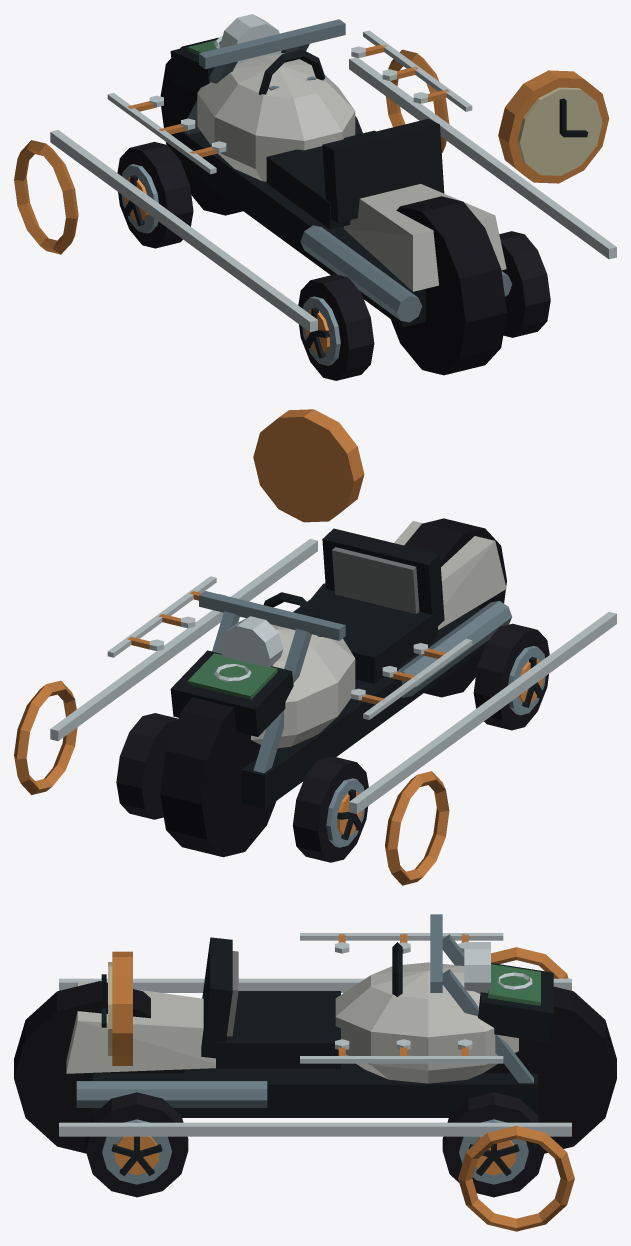
Rendered from kart.glb.
The picture shows the model from 3 angles, top to bottom: view 1: azimuth 30°, elevation 25°; view 2: azimuth 150°, elevation 25°; view 3: azimuth 270°, elevation 25°; orthographic projection.
Parts seen in each view (by area): view 1: identity-motorbike-motorbike-tank-and-fork, identity-motorbike-motif-neon, identity-motorbike-driver-cockpit, identity-motorbike-motif-clock, wheel-rear-left, wheel-front-left, identity-motorbike-motif-circuit, wheel-rear-right, identity-motorbike-motif-scanner; view 2: identity-motorbike-motorbike-tank-and-fork, identity-motorbike-motif-neon, identity-motorbike-driver-cockpit, identity-motorbike-motif-clock, identity-motorbike-motif-scanner, wheel-front-left, wheel-rear-left, wheel-front-right, identity-motorbike-motif-circuit; view 3: identity-motorbike-motorbike-tank-and-fork, identity-motorbike-motif-neon, identity-motorbike-driver-cockpit, wheel-rear-right, wheel-front-right, identity-motorbike-motif-scanner, identity-motorbike-motif-circuit, identity-motorbike-motif-clock.
Boxes of the visible parts, x1,y1,x2,y2 form: identity-motorbike-motorbike-tank-and-fork: [160, 14, 512, 375]; identity-motorbike-motif-neon: [14, 49, 616, 332]; identity-motorbike-driver-cockpit: [258, 49, 444, 229]; identity-motorbike-motif-clock: [498, 70, 609, 183]; wheel-rear-left: [298, 274, 374, 380]; wheel-front-left: [117, 142, 193, 248]; identity-motorbike-motif-circuit: [107, 30, 472, 174]; wheel-rear-right: [499, 231, 550, 337]; identity-motorbike-motif-scanner: [170, 36, 286, 92]; identity-motorbike-motorbike-tank-and-fork: [160, 518, 511, 857]; identity-motorbike-motif-neon: [14, 539, 616, 885]; identity-motorbike-driver-cockpit: [263, 528, 444, 683]; identity-motorbike-motif-clock: [253, 409, 364, 522]; identity-motorbike-motif-scanner: [170, 650, 293, 736]; wheel-front-left: [292, 756, 368, 862]; wheel-rear-left: [473, 623, 549, 730]; wheel-front-right: [116, 713, 178, 819]; identity-motorbike-motif-circuit: [107, 576, 472, 719]; identity-motorbike-motorbike-tank-and-fork: [14, 914, 616, 1153]; identity-motorbike-motif-neon: [59, 947, 574, 1231]; identity-motorbike-driver-cockpit: [201, 937, 402, 1068]; wheel-rear-right: [85, 1092, 188, 1197]; wheel-front-right: [442, 1092, 545, 1197]; identity-motorbike-motif-scanner: [478, 963, 553, 1042]; identity-motorbike-motif-circuit: [300, 933, 503, 1063]; identity-motorbike-motif-clock: [101, 951, 132, 1065].
Bounding box in the file's own units: 2.13 × 1.35 × 2.94.
